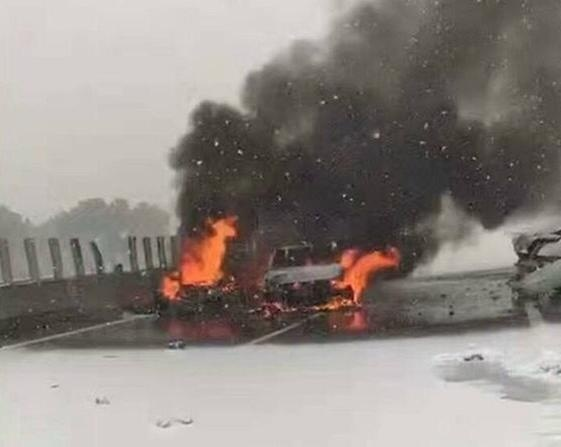fire: (160, 212, 239, 294), (321, 243, 400, 307)
